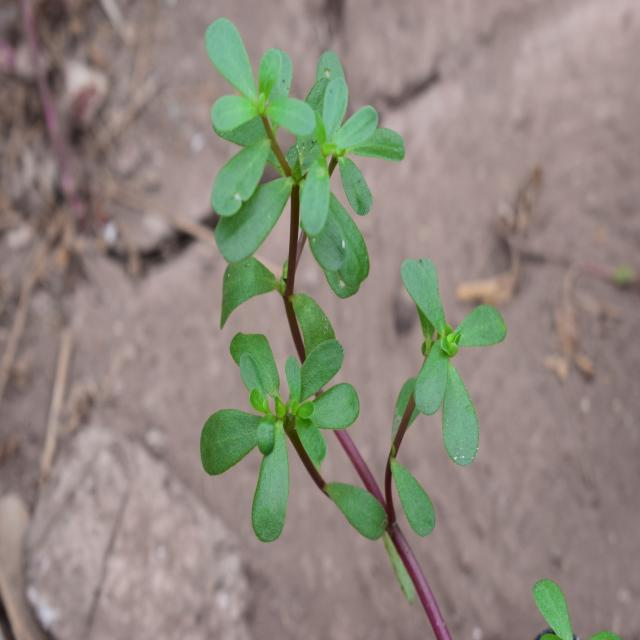purslane: (165, 8, 510, 560)
